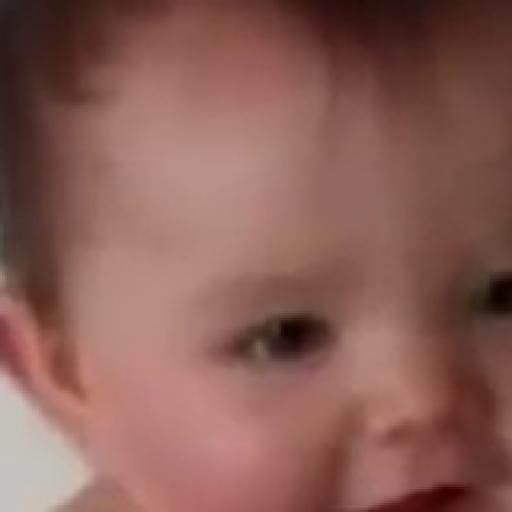Autism: (45, 52, 509, 512)
